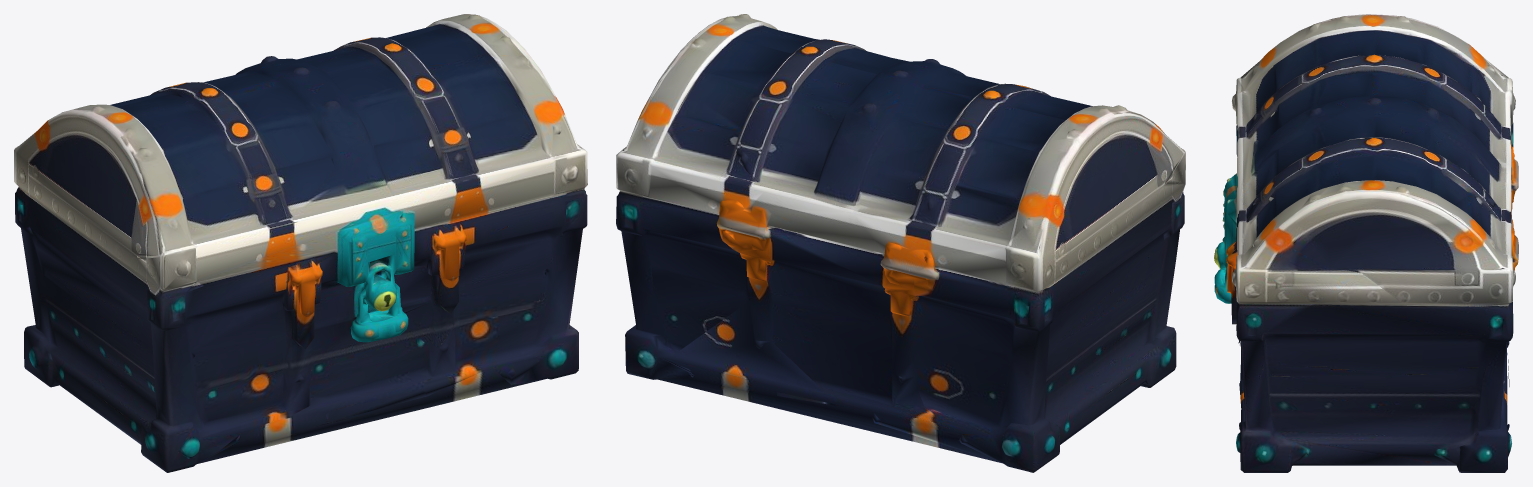
File: championship_reward_chest.glb
3 views of the same model, side by side, from view 1: azimuth 30°, elevation 25°; view 2: azimuth 150°, elevation 25°; view 3: azimuth 270°, elevation 25° (orthographic). The views are drawn at different scales.
Size of the model in its own units: 1.9 by 1.29 by 1.26.
Materials: 1 (1 with a texture image).
